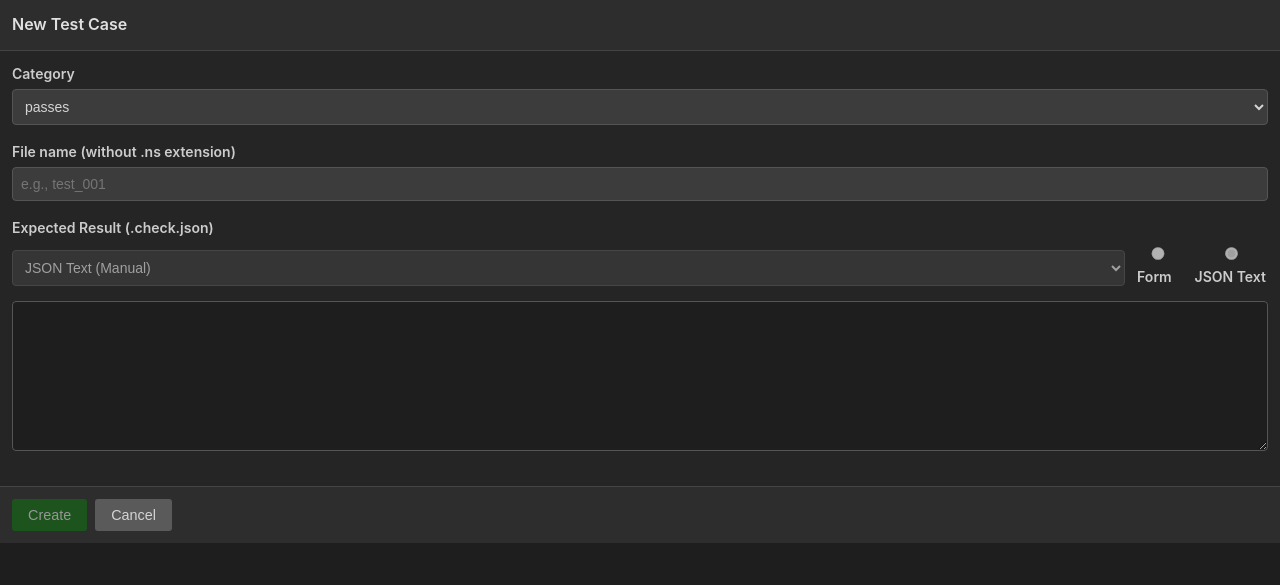
Test case: TestCaseCreateForm のファイル名検証 › BUG: 使えない文字を含むファイル名（a/b）は作成を無効にし、理由を表示する
Type "a/b" into the field with placeholder "e.g., test_001" at (640, 184), box 12,167 -> 1268,201
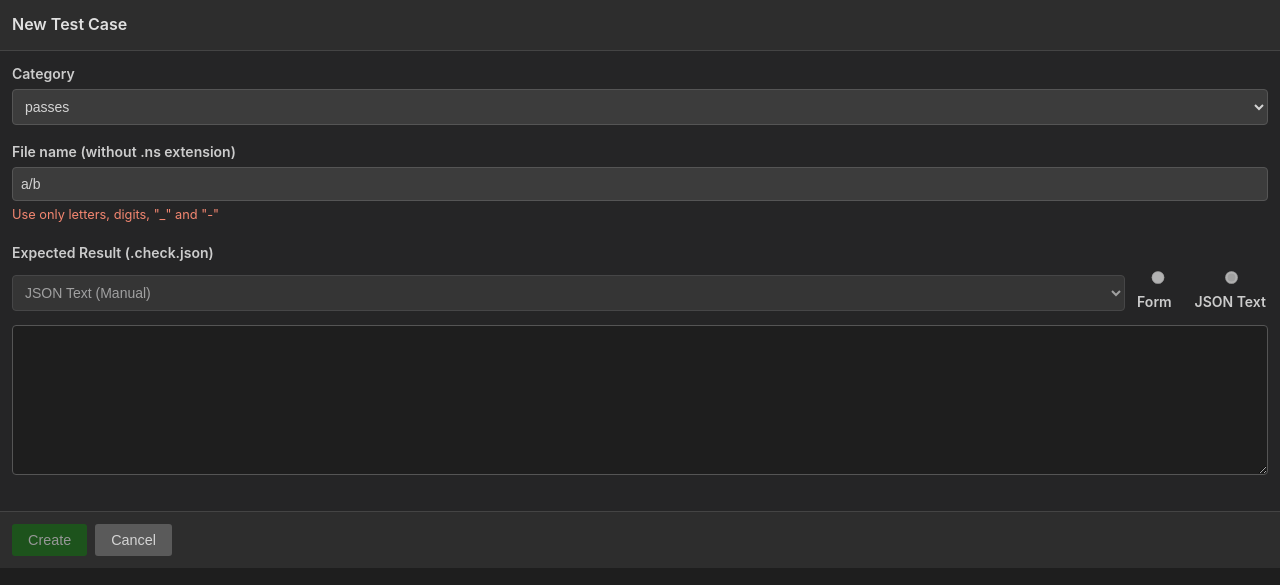
Expected: the button "Create" is disabled, 12,524 -> 87,556
Expected: the message shows "letters, digits", 12,207 -> 219,222
